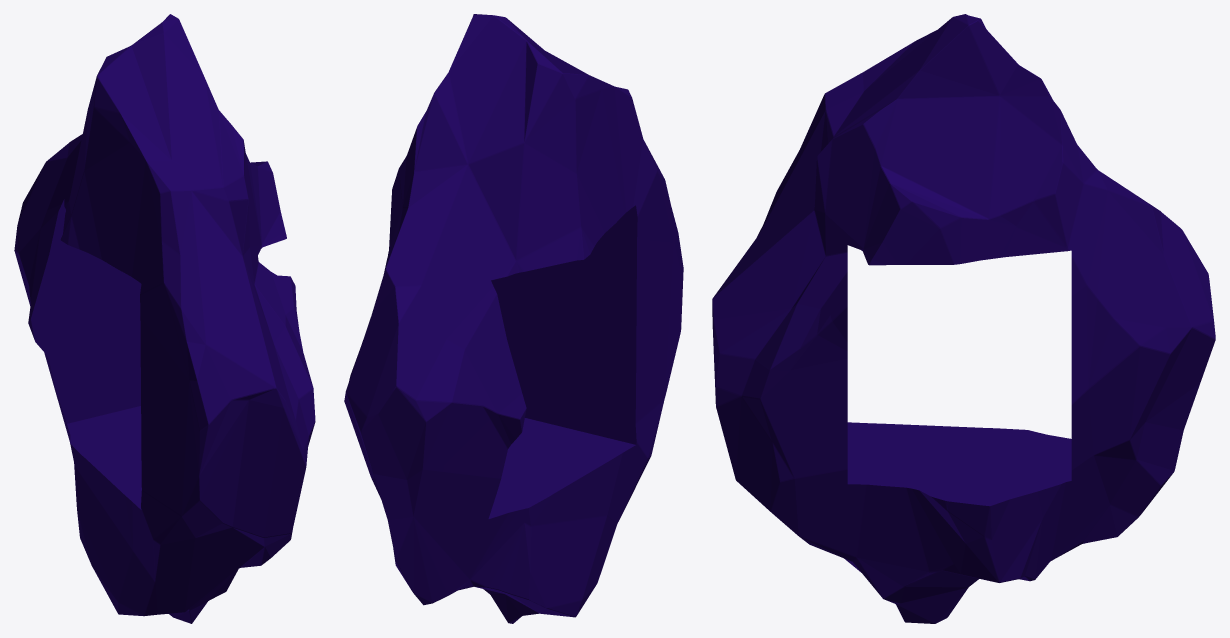
File: rock3.glb
3 renders of one model, left to right at view 1: azimuth 30°, elevation 25°; view 2: azimuth 150°, elevation 25°; view 3: azimuth 270°, elevation 25°, orthographic. The views are drawn at different scales.
Parts seen in each view (by area): view 1: Cube.028; view 2: Cube.028; view 3: Cube.028.
Part boxes in pixels (<box>): Cube.028: <box>14,14,315,623</box>; Cube.028: <box>344,14,683,623</box>; Cube.028: <box>712,14,1215,623</box>.
Size of the model in its own units: 1.17 by 3.62 by 2.7.
